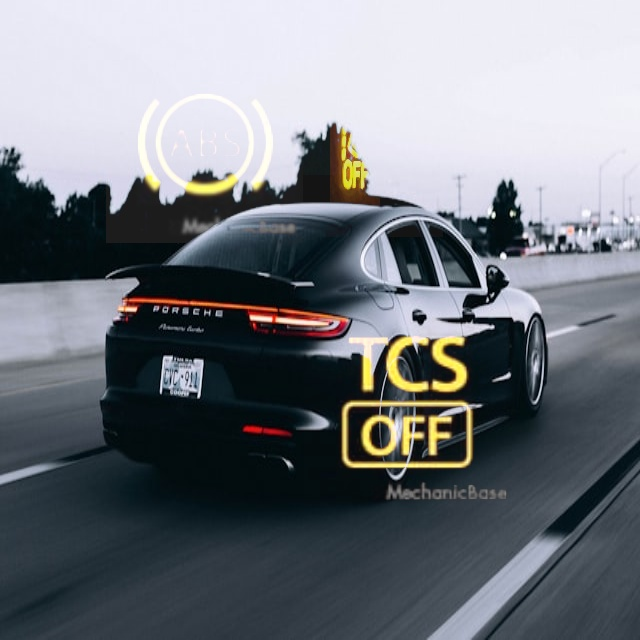symbol: (304, 299, 515, 510), (106, 46, 303, 243), (261, 55, 443, 237), (279, 27, 427, 175)
